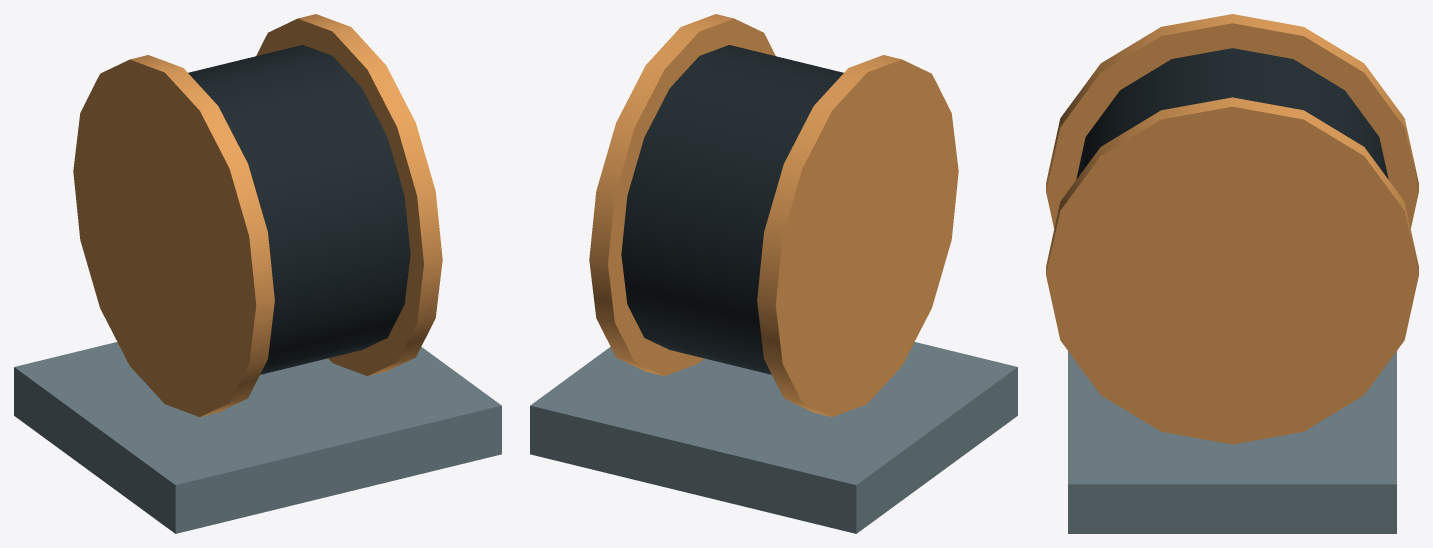
The model's file is cable-reel.glb.
3 views of the same model, side by side, from view 1: azimuth 30°, elevation 25°; view 2: azimuth 150°, elevation 25°; view 3: azimuth 270°, elevation 25° (orthographic).
Visible parts, largest first — view 1: spool_side (×2), base, spool; view 2: spool_side (×2), base, spool; view 3: spool_side (×2), base, spool.
Boxes of the visible parts, left/top/right/bottom form: spool_side (×2): left=73, top=14, right=442, bottom=416; base: left=14, top=342, right=501, bottom=533; spool: left=188, top=45, right=410, bottom=374; spool_side (×2): left=589, top=14, right=958, bottom=416; base: left=530, top=342, right=1017, bottom=533; spool: left=621, top=45, right=843, bottom=374; spool_side (×2): left=1046, top=14, right=1418, bottom=444; base: left=1068, top=351, right=1396, bottom=533; spool: left=1076, top=48, right=1388, bottom=179.
Bounding box in the file's own units: 0.7 × 0.79 × 0.68.
